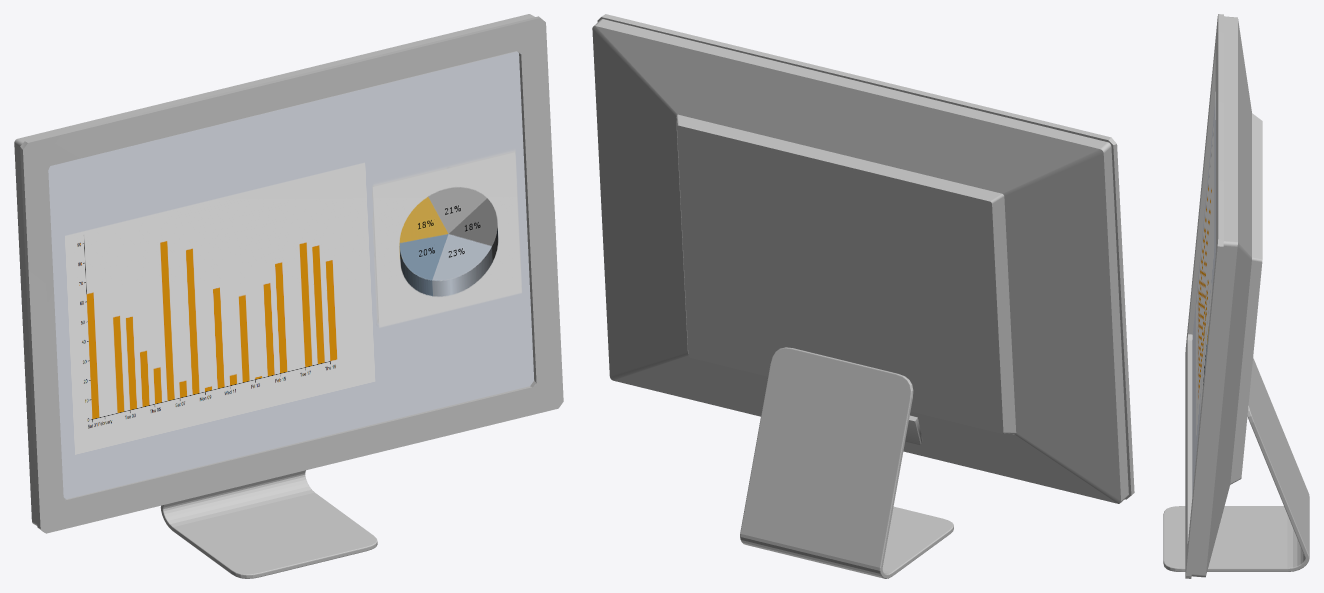
The model's file is Monitor.FBX.
3 views of the same model, side by side, from view 1: azimuth 30°, elevation 25°; view 2: azimuth 150°, elevation 25°; view 3: azimuth 270°, elevation 25° (orthographic). The views are drawn at different scales.
Visible parts, largest first — view 1: Monitor; view 2: Monitor; view 3: Monitor.
Boxes of the visible parts, x1,y1,x2,y2 form: Monitor: (14, 14, 563, 578); Monitor: (592, 14, 1134, 578); Monitor: (1163, 14, 1309, 578).
Size of the model in its own units: 55.63 by 46.91 by 14.96.
